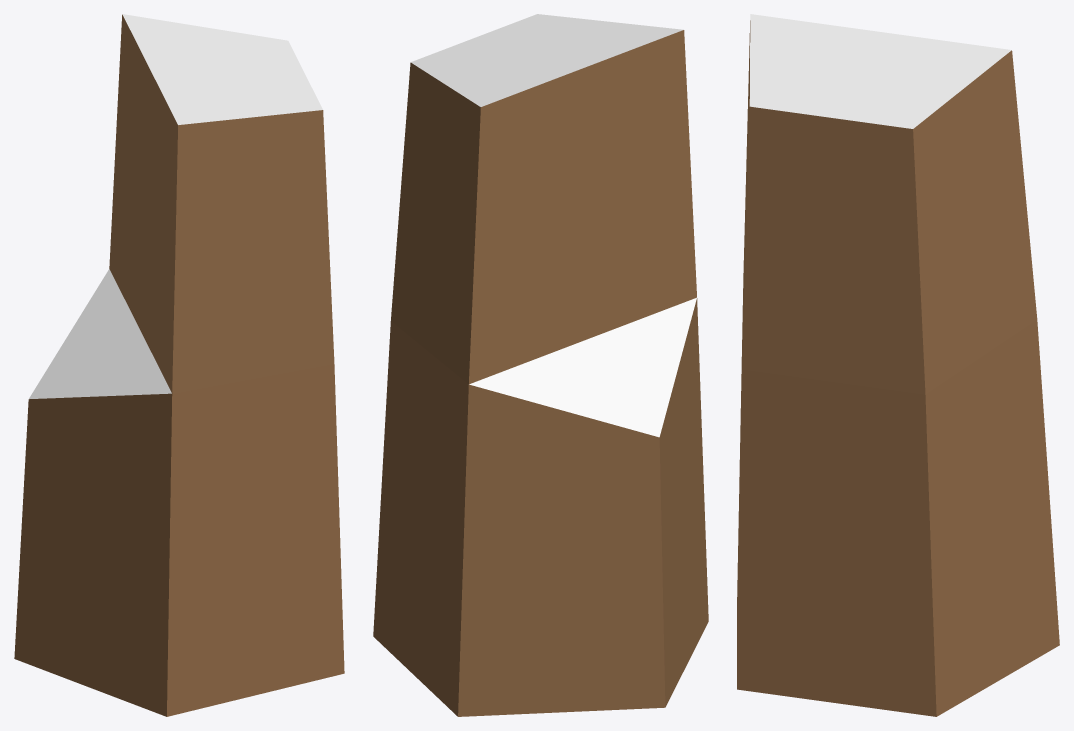
Rendered from Pine_Stump_Snow_02_LOD.fbx.
3 views of the same model, side by side, from view 1: azimuth 30°, elevation 25°; view 2: azimuth 150°, elevation 25°; view 3: azimuth 270°, elevation 25° (orthographic). The views are drawn at different scales.
Parts seen in each view (by area): view 1: Pine_Stump_Snow_02_LOD0; view 2: Pine_Stump_Snow_02_LOD0; view 3: Pine_Stump_Snow_02_LOD0.
Boxes of the visible parts, x1,y1,x2,y2 form: Pine_Stump_Snow_02_LOD0: (14,14,344,716); Pine_Stump_Snow_02_LOD0: (373,14,708,716); Pine_Stump_Snow_02_LOD0: (737,14,1059,716).
Size of what is drawn, in the model's own units: 72.39 by 140 by 68.85.
